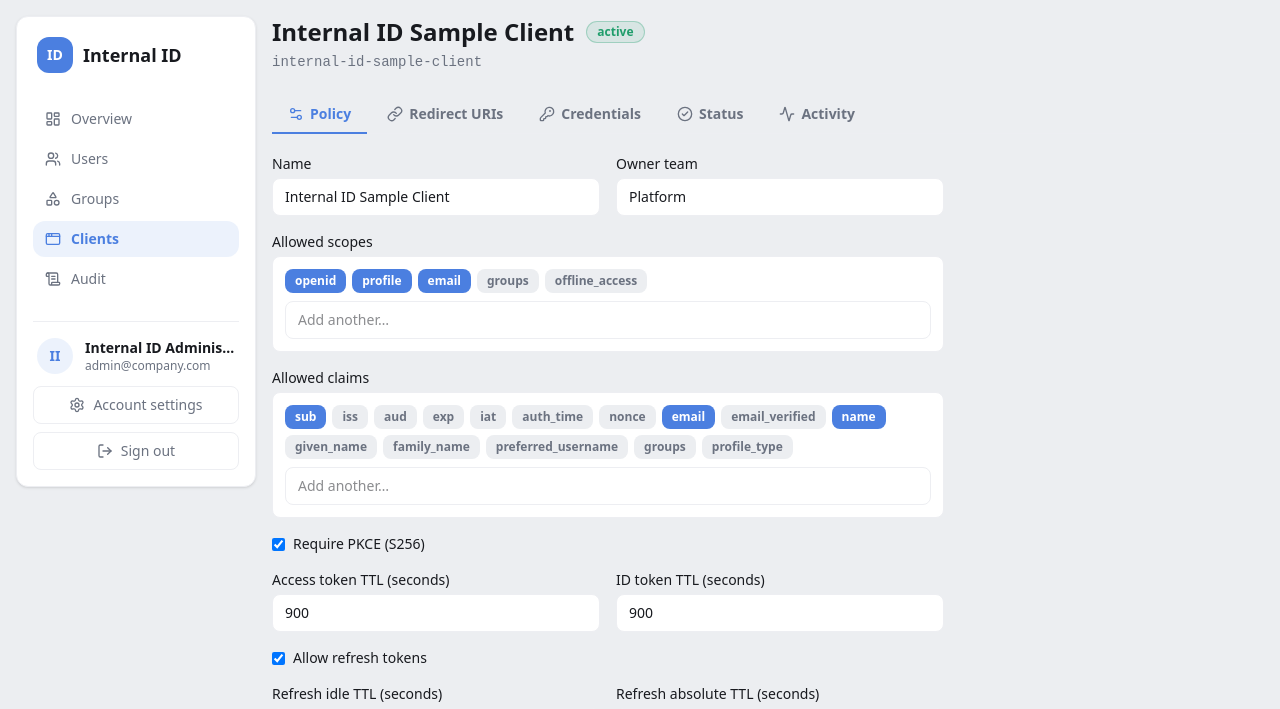
Scenario: adding a redirect URI validates absolute https and appends it
Click the tab "Redirect URIs" at (445,115), box [371,96,519,134]
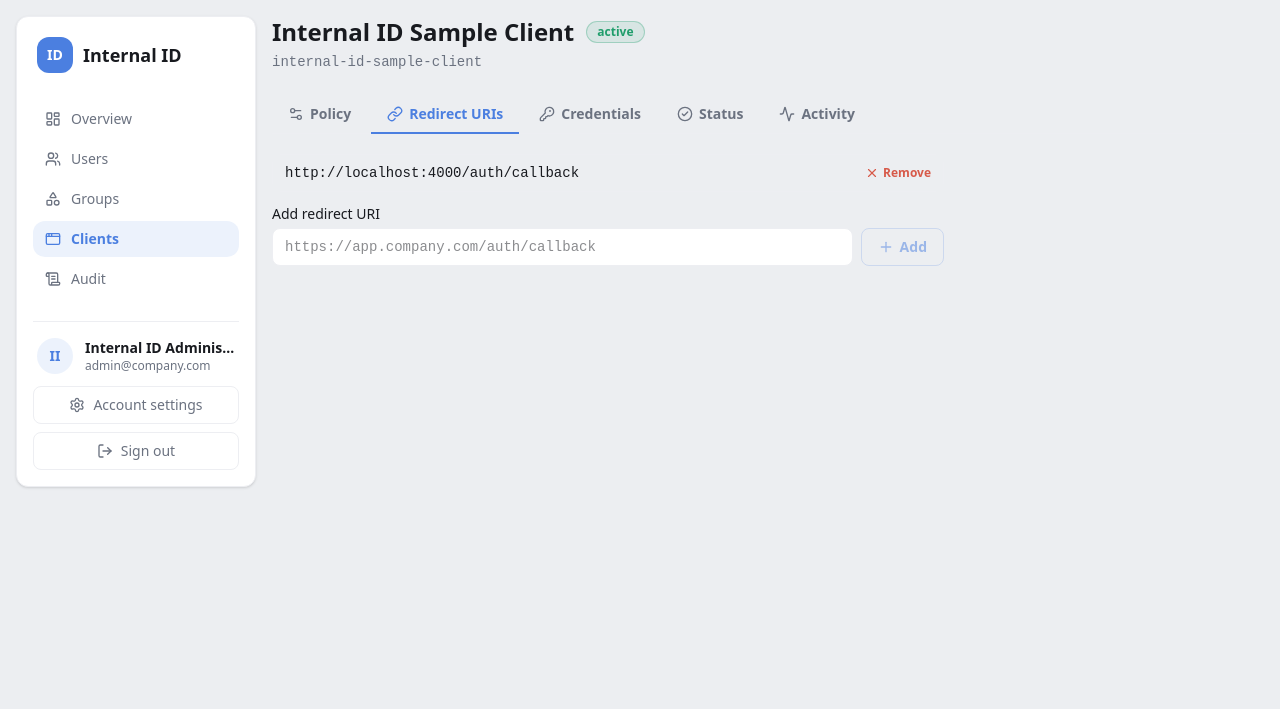
Note: Invalid: fragment present.
Type "https://app.company.com/cb#frag" into the field labelled "redirect URI" at (562,247), box [272,228,853,266]
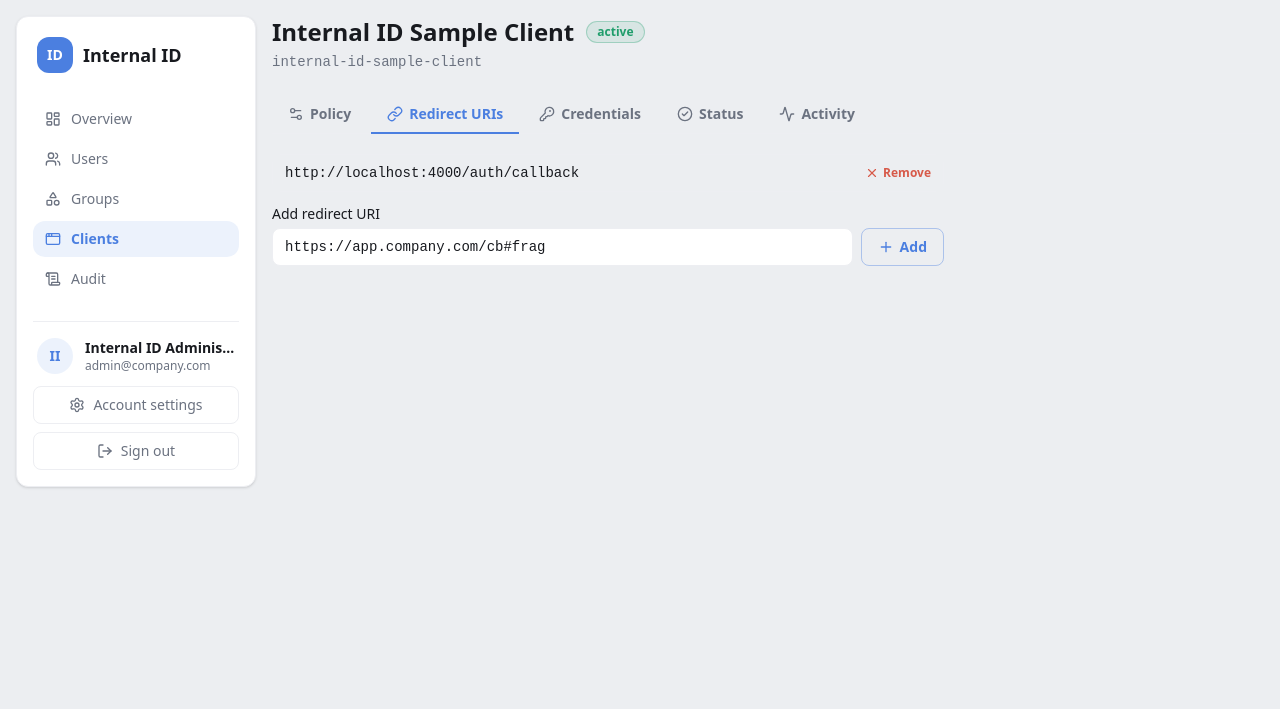
Click the button "Add" at (902,247), box [861,228,944,266]
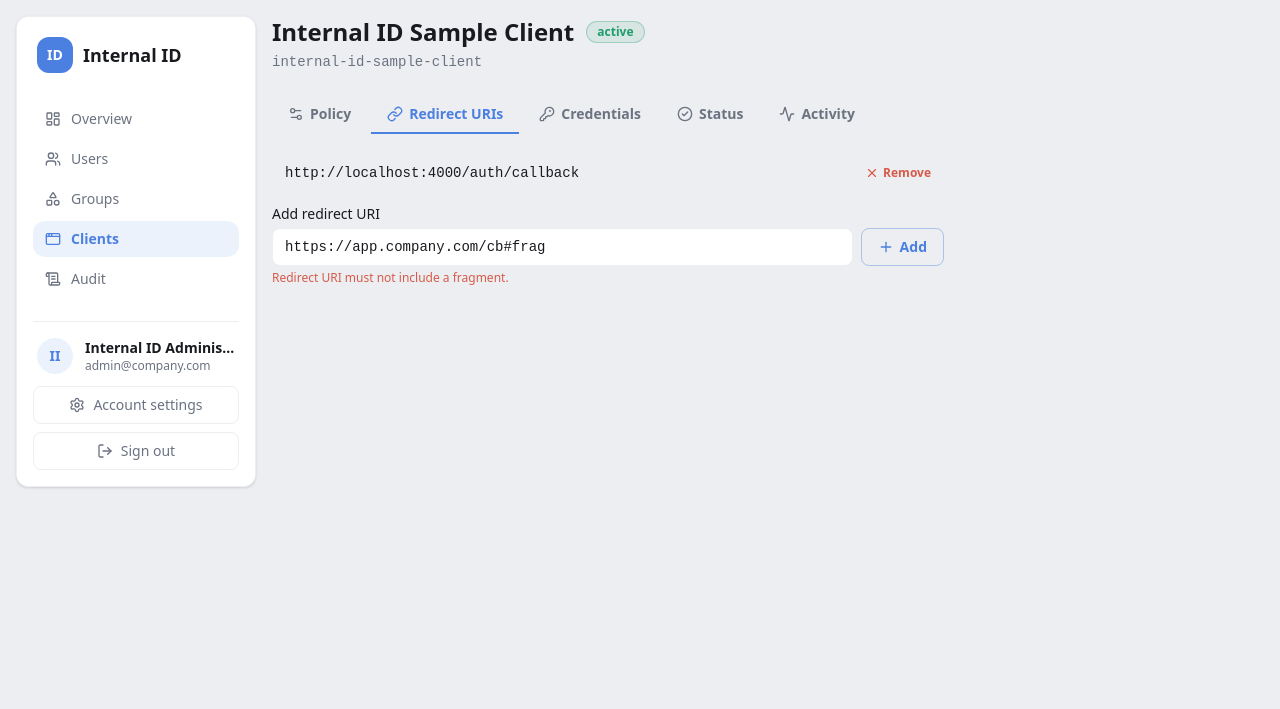
Expected: the text "Redirect URI must not include a fragment." is shown, [272,269,509,286]
Replace the text in the field labelled "redirect URI" with "https://app.company.com/callback" at (562,247), box [272,228,853,266]
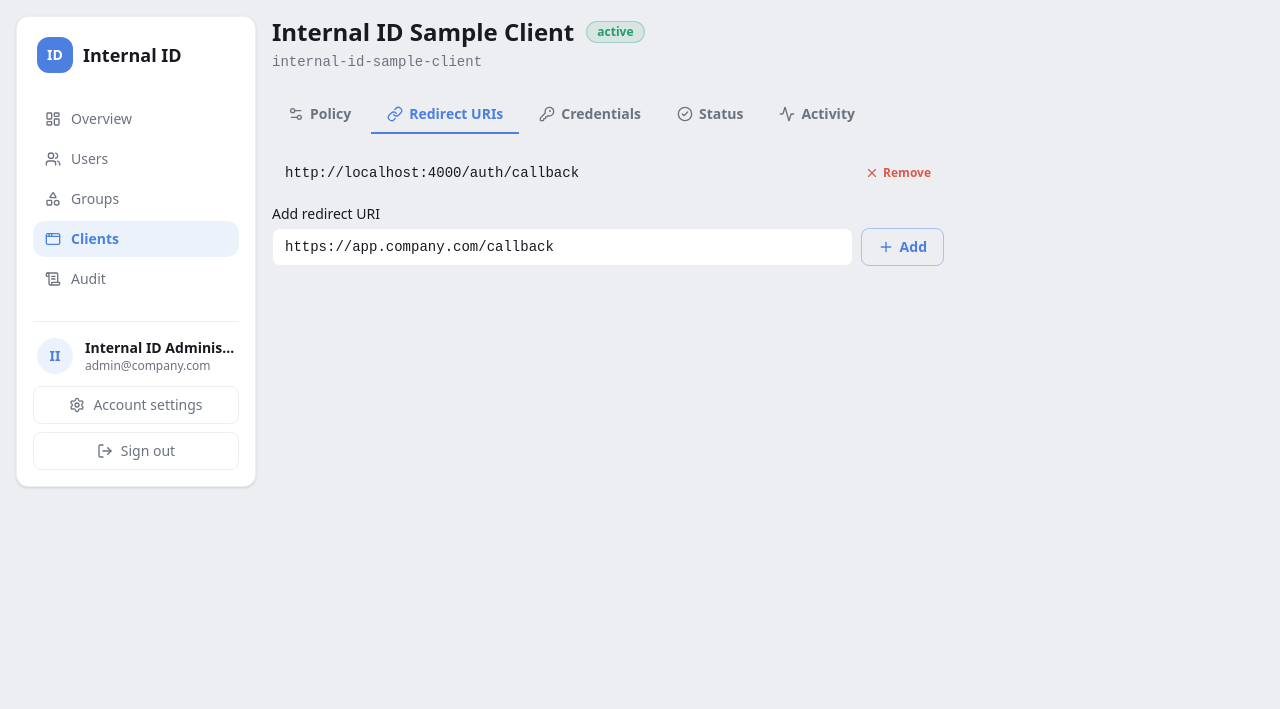
Click the button "Add" at (902,247), box [861,228,944,266]
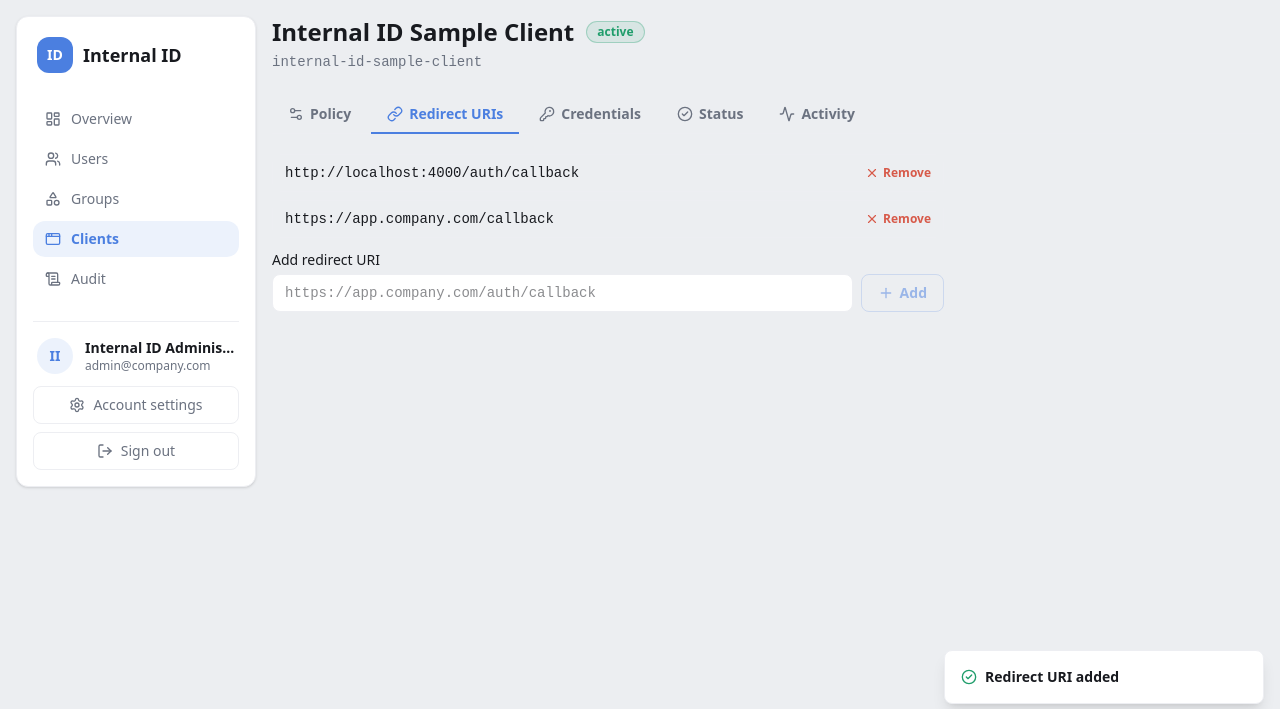
Expected: the text "https://app.company.com/callback" is shown, [285,209,554,229]
